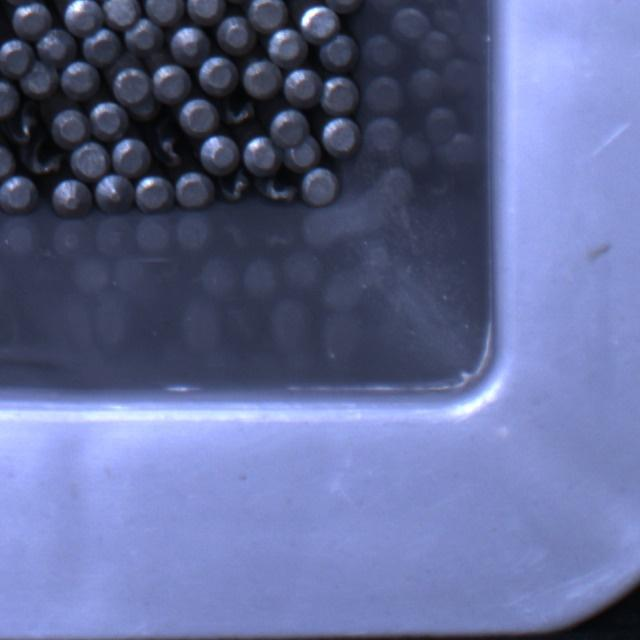tool: (198, 134, 239, 175), (50, 176, 91, 217), (322, 116, 362, 158), (168, 24, 210, 64), (266, 26, 307, 66), (243, 58, 283, 98), (152, 64, 192, 104), (198, 54, 238, 94), (71, 142, 111, 182), (90, 99, 129, 140), (297, 2, 339, 40), (110, 138, 149, 178), (174, 170, 214, 209), (60, 60, 100, 99), (242, 136, 281, 176), (216, 15, 256, 54), (269, 106, 309, 145), (0, 174, 39, 214), (124, 15, 164, 54), (20, 59, 60, 98), (177, 96, 218, 134), (93, 173, 132, 212), (284, 68, 322, 108), (318, 33, 358, 71), (38, 30, 79, 67), (83, 28, 122, 66), (113, 66, 151, 105), (134, 174, 172, 213), (52, 109, 90, 148), (13, 1, 53, 38), (301, 166, 339, 204), (322, 76, 360, 114), (284, 135, 322, 171), (64, 0, 103, 34), (248, 0, 289, 31), (0, 37, 31, 78), (102, 0, 142, 28), (144, 0, 185, 24), (185, 0, 224, 24), (0, 78, 18, 119), (0, 143, 15, 182), (323, 0, 366, 12)
tool_b: (23, 139, 66, 178), (152, 131, 192, 170), (256, 172, 299, 206), (7, 111, 43, 146), (217, 170, 252, 205), (221, 96, 258, 128)
